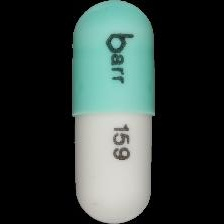63629-4027: (0, 0, 224, 224)
